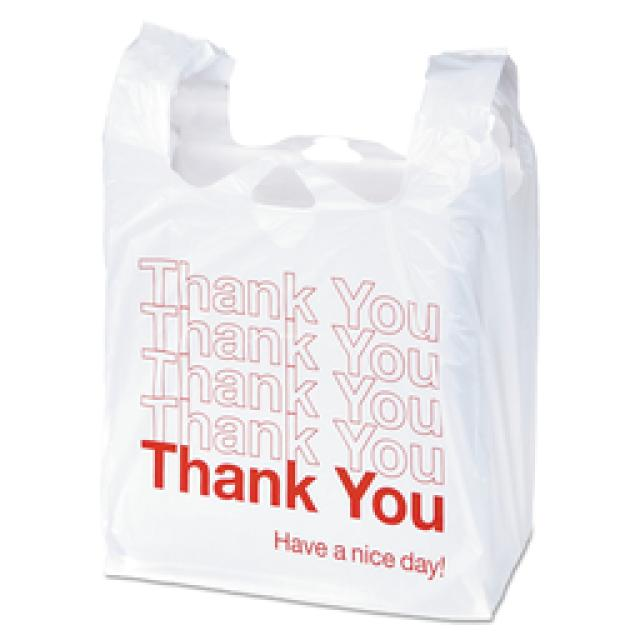plastic: (102, 25, 535, 618)
